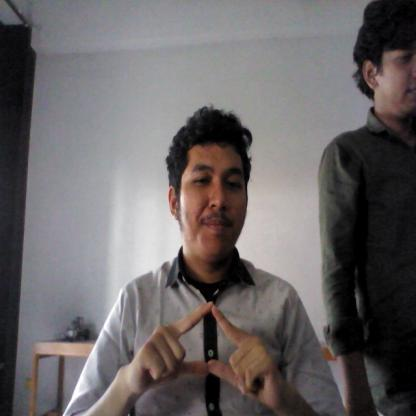A: (122, 300, 284, 400)
